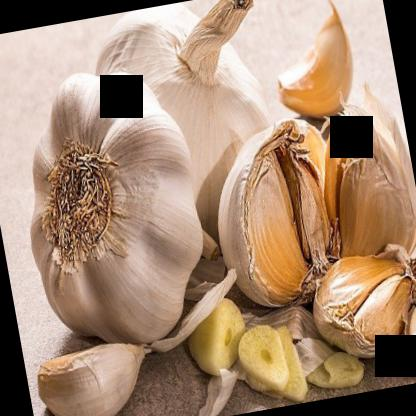garlic: (197, 83, 415, 399), (3, 63, 216, 366), (89, 0, 303, 253), (33, 333, 159, 415)
